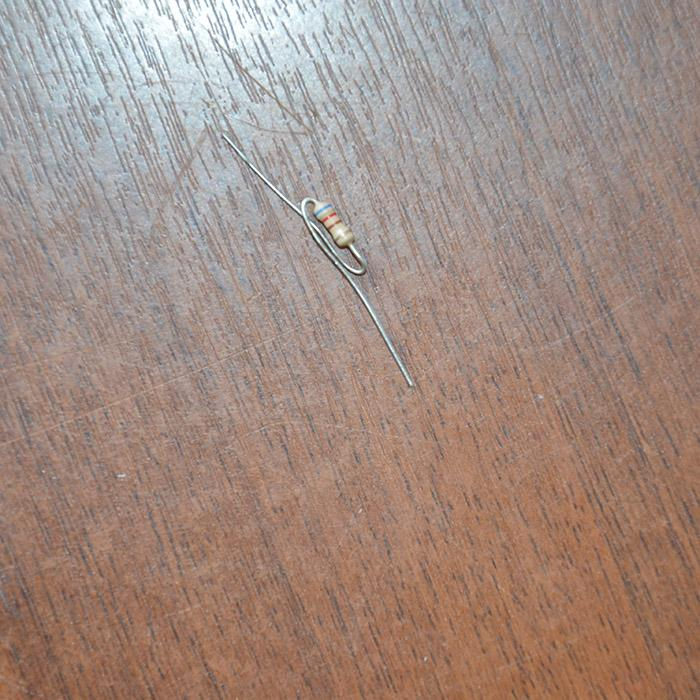resistor: (311, 200, 354, 247)
